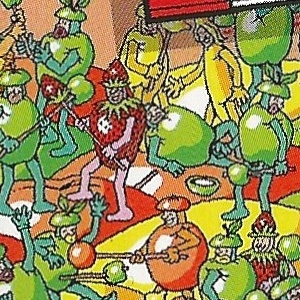Odlaw: (118, 41, 182, 258)
Wenda: (266, 41, 300, 258)
Wizard Whitebeard: (195, 42, 250, 262)
